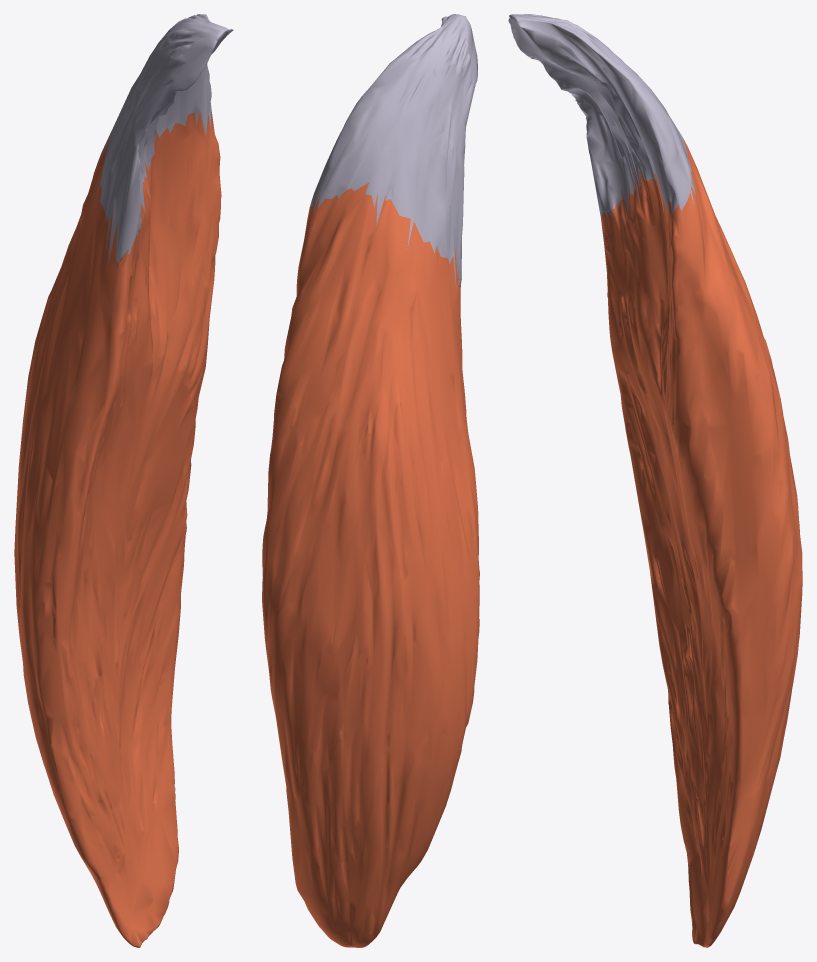
Rendered from Gastrocnemius_lateral_head_right.glb.
3 renders of one model, left to right at view 1: azimuth 30°, elevation 25°; view 2: azimuth 150°, elevation 25°; view 3: azimuth 270°, elevation 25°, orthographic. The views are drawn at different scales.
Parts seen in each view (by area): view 1: Lateral_head_of_gastrocnemius.r_Generated_Mesh_From_X3D.405; view 2: Lateral_head_of_gastrocnemius.r_Generated_Mesh_From_X3D.405; view 3: Lateral_head_of_gastrocnemius.r_Generated_Mesh_From_X3D.405.
Boxes of the visible parts, x1,y1,x2,y2 form: Lateral_head_of_gastrocnemius.r_Generated_Mesh_From_X3D.405: [14, 14, 233, 947]; Lateral_head_of_gastrocnemius.r_Generated_Mesh_From_X3D.405: [262, 14, 479, 947]; Lateral_head_of_gastrocnemius.r_Generated_Mesh_From_X3D.405: [508, 14, 802, 947].
Bounding box in the file's own units: 0.0541 × 0.2693 × 0.0779.
